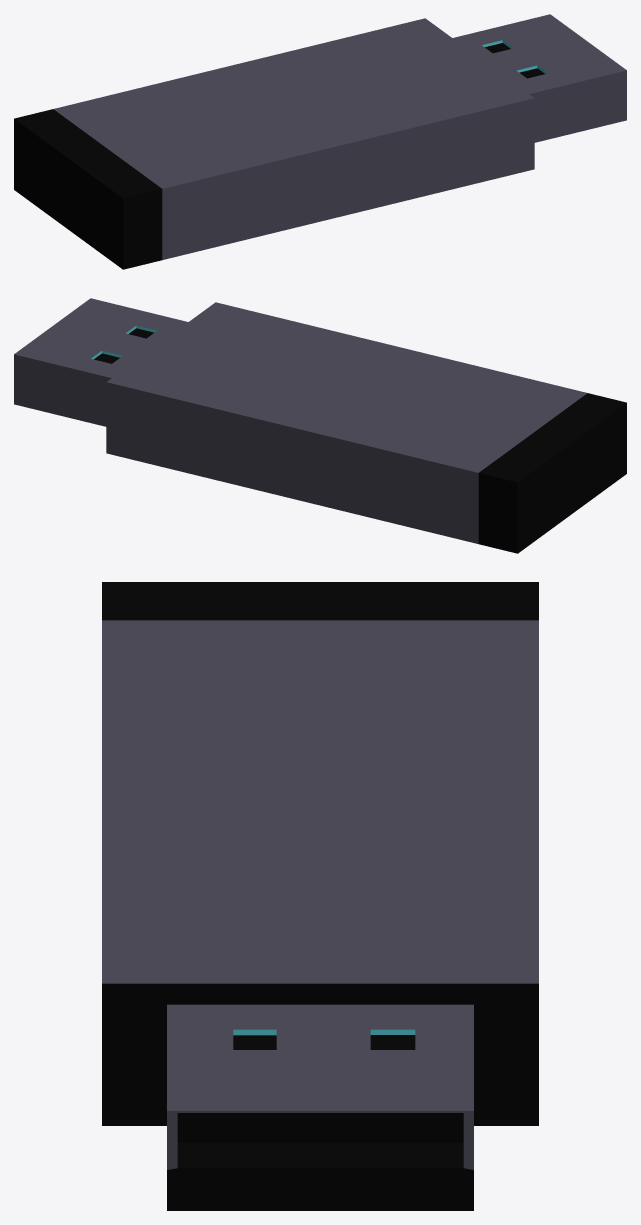
Rendered from LLAVEUSB.fbx.
3 views of the same model, one above another, from view 1: azimuth 30°, elevation 25°; view 2: azimuth 150°, elevation 25°; view 3: azimuth 270°, elevation 25° (orthographic). The views are drawn at different scales.
Visible parts, largest first — view 1: PendriveLlave; view 2: PendriveLlave; view 3: PendriveLlave.
Part boxes in pixels (left/top/right/bottom): PendriveLlave: left=14, top=14, right=626, bottom=269; PendriveLlave: left=14, top=298, right=626, bottom=553; PendriveLlave: left=102, top=582, right=538, bottom=1210.
Bounding box in the file's own units: 253 × 33.1 × 91.95.
Materials: 1 (1 with a texture image).
